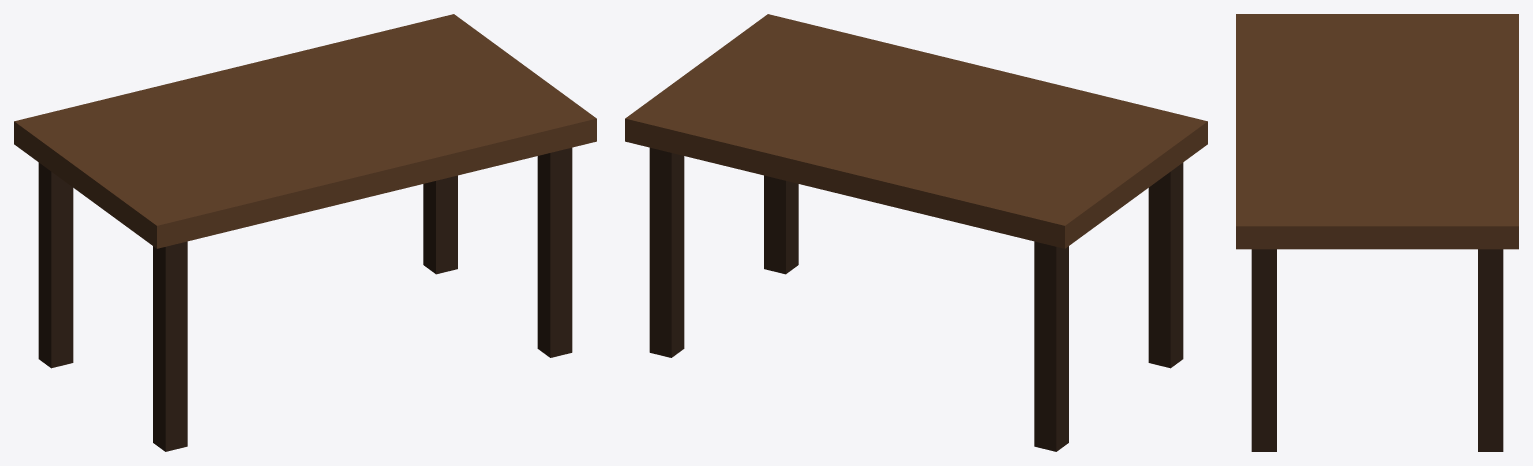
The model's file is table.glb.
3 renders of one model, left to right at view 1: azimuth 30°, elevation 25°; view 2: azimuth 150°, elevation 25°; view 3: azimuth 270°, elevation 25°, orthographic.
Parts seen in each view (by area): view 1: table; view 2: table; view 3: table.
Boxes of the visible parts, <box> form: table: <box>14,14,596,451</box>; table: <box>625,14,1207,451</box>; table: <box>1236,14,1518,451</box>.
Size of the model in its own units: 1.6 by 0.82 by 0.9.
